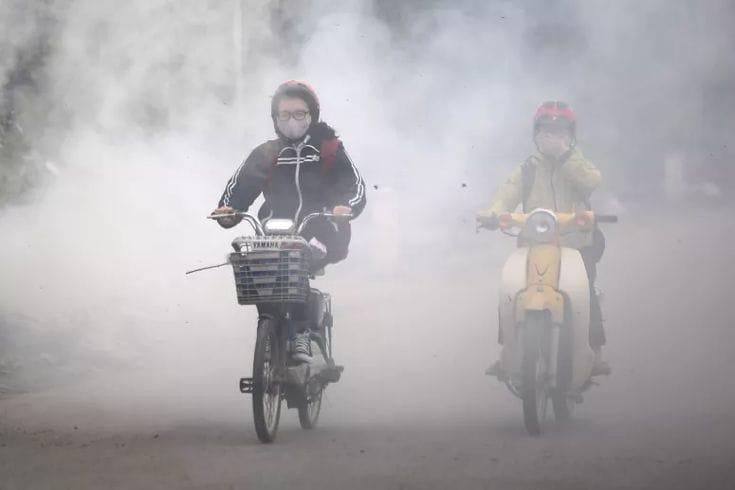Deteksi-Objek-Citra-Berasap: (0, 0, 734, 445)
Kendaraan: (207, 205, 357, 445), (476, 207, 618, 435)
Manusia: (210, 80, 367, 373), (481, 99, 611, 382)
